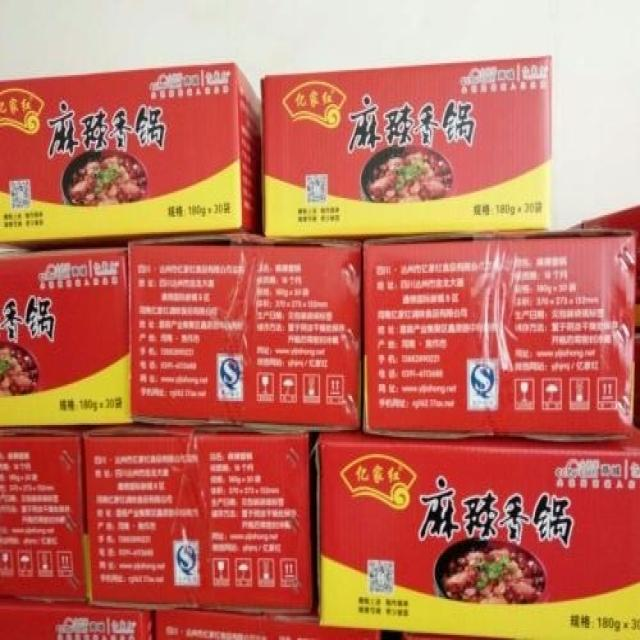box: (317, 423, 640, 640), (362, 229, 635, 444), (260, 58, 552, 232), (0, 63, 262, 253), (127, 232, 361, 433), (86, 423, 314, 616), (0, 242, 131, 428), (155, 608, 381, 640), (0, 594, 154, 640)
